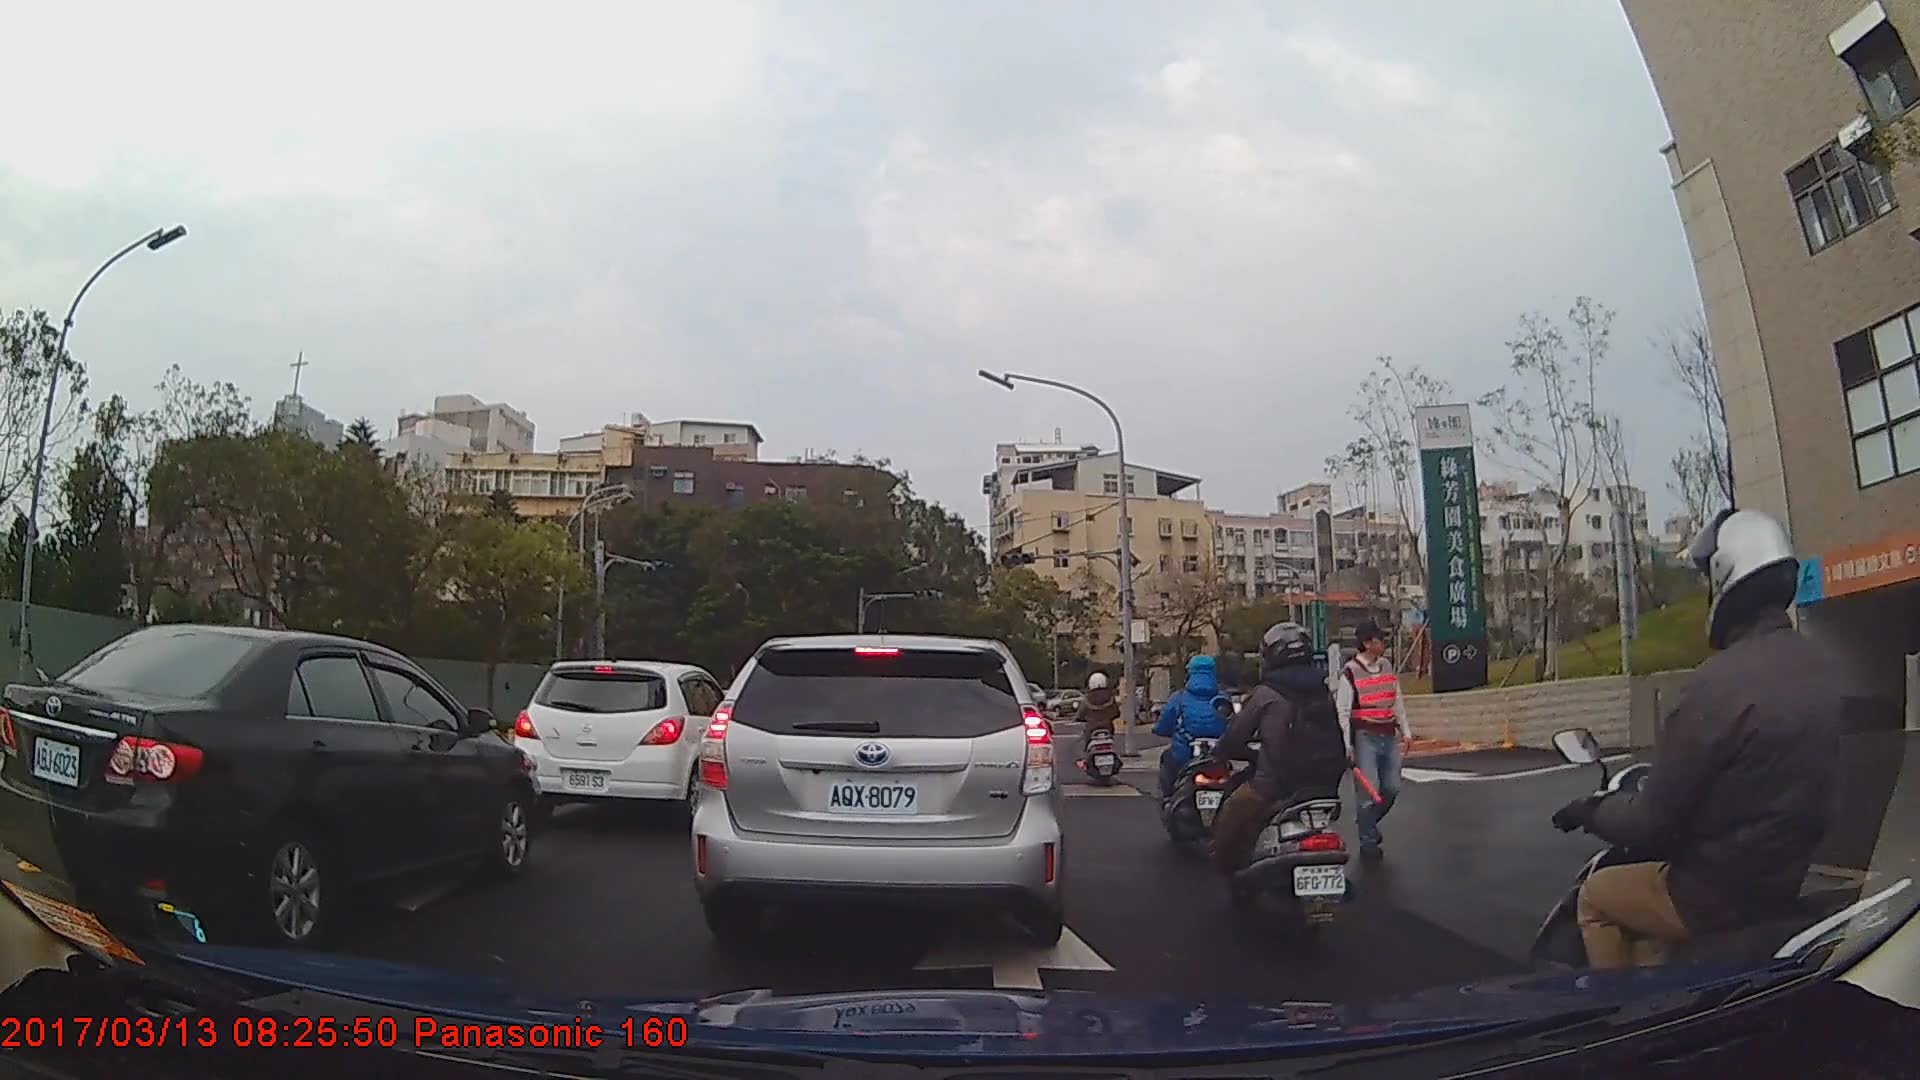pedestrian: (1336, 616, 1416, 864)
rider: (1514, 509, 1920, 1080), (1208, 618, 1357, 951), (1151, 653, 1235, 856), (1074, 670, 1124, 788)
vehicle: (9, 618, 540, 948), (689, 632, 1066, 951), (508, 658, 733, 826), (1046, 687, 1086, 716)
